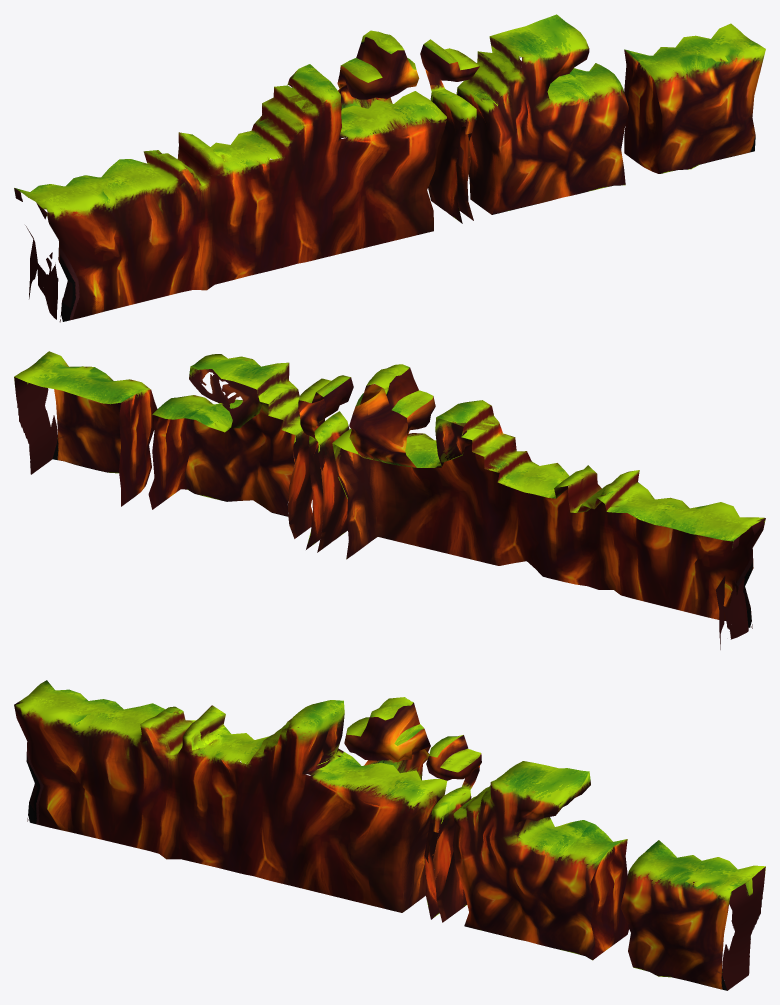
The model's file is fase5.fbx.
3 views of the same model, one above another, from view 1: azimuth 30°, elevation 25°; view 2: azimuth 150°, elevation 25°; view 3: azimuth 330°, elevation 25° (orthographic).
Visible parts, largest first — view 1: Cube; view 2: Cube; view 3: Cube.
Part boxes in pixels (x1,y1,x2,y2): Cube: (14,14,765,322); Cube: (14,351,765,649); Cube: (14,680,765,990).
Size of the model in its own units: 10.95 by 2.71 by 1.32.
